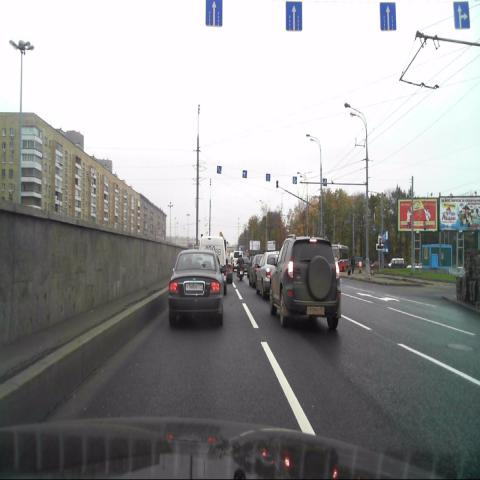5_15_2: (380, 1, 397, 31), (453, 2, 470, 30), (206, 0, 222, 28), (286, 3, 302, 31)
